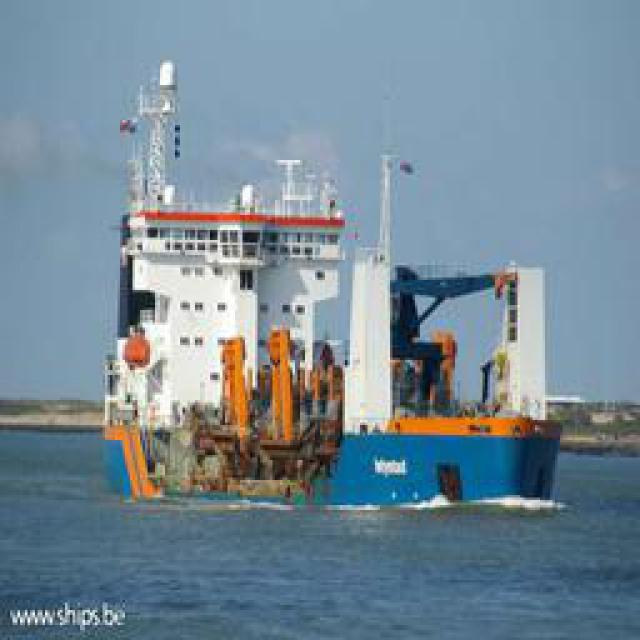Ship: (86, 41, 571, 511)
